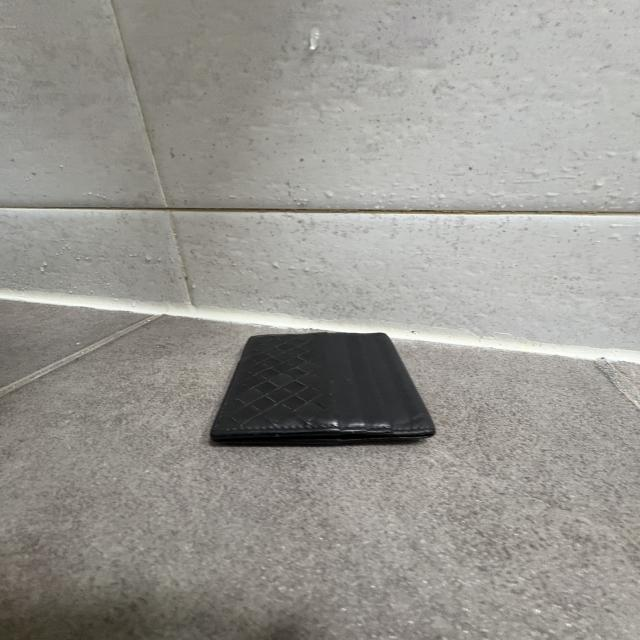wallet: (212, 332, 436, 444)
